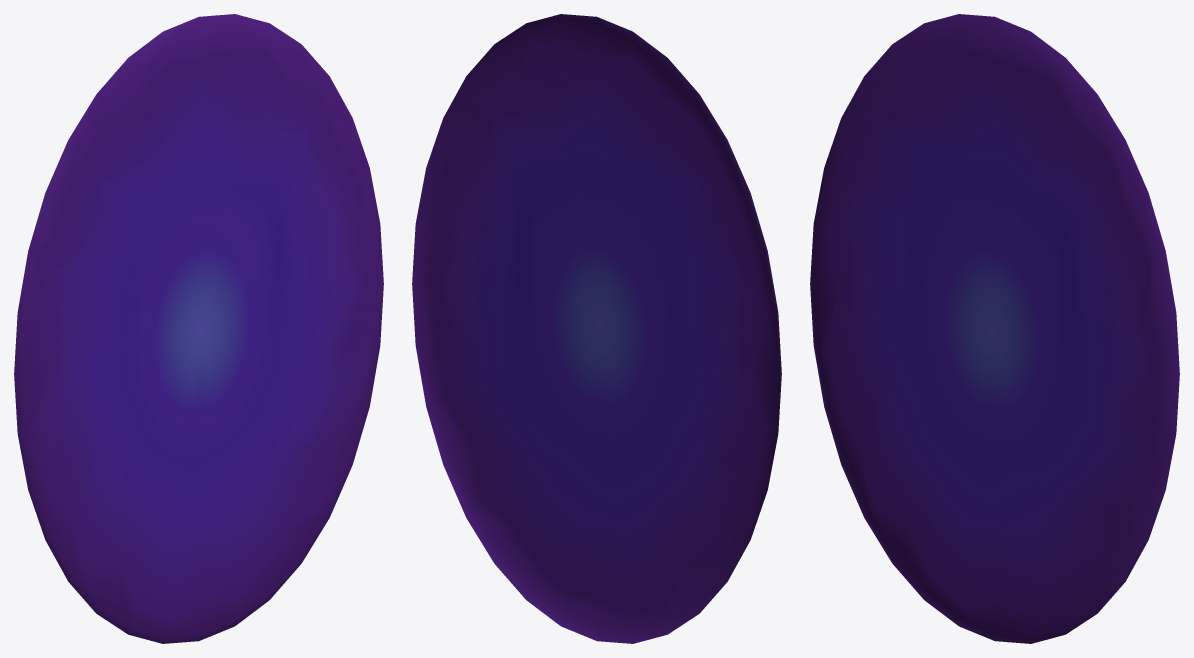
The model's file is Portal.fbx.
The picture shows the model from 3 angles, left to right: view 1: azimuth 30°, elevation 25°; view 2: azimuth 150°, elevation 25°; view 3: azimuth 330°, elevation 25°; orthographic projection.
Visible parts, largest first — view 1: Portal; view 2: Portal; view 3: Portal.
Boxes of the visible parts, x1,y1,x2,y2 form: Portal: (14, 14, 383, 643); Portal: (412, 14, 781, 643); Portal: (810, 14, 1179, 643).
Size of the model in its own units: 2 by 3.23 by 0.0327.
